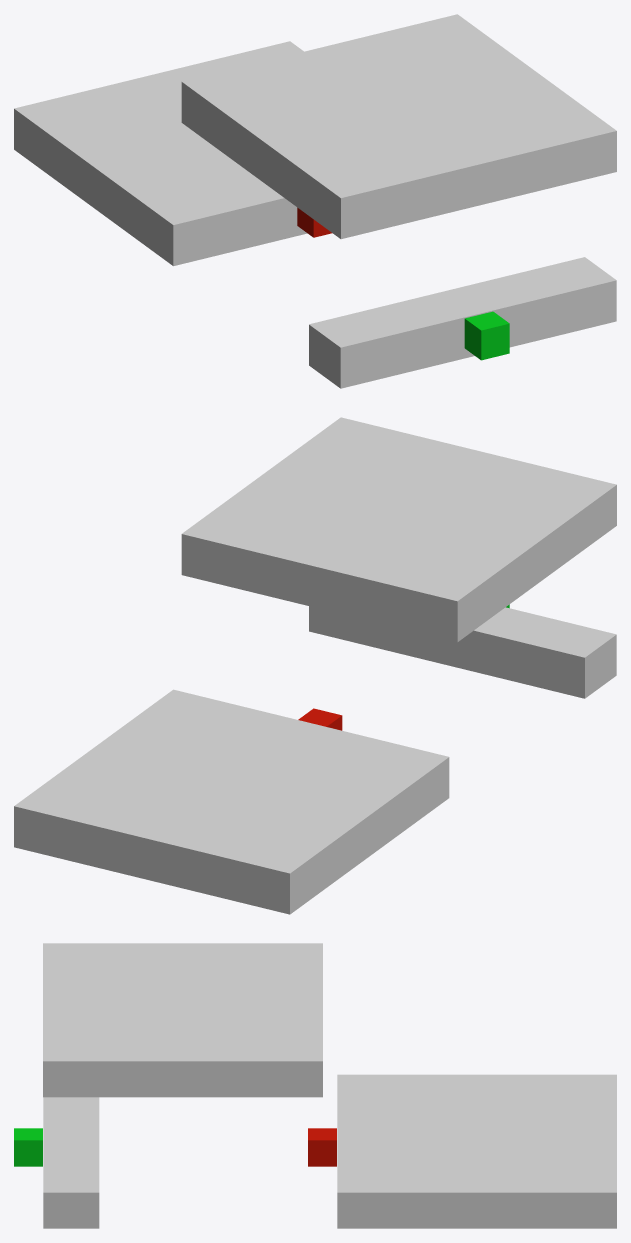
Rendered from platformModel.fbx.
The picture shows the model from 3 angles, top to bottom: view 1: azimuth 30°, elevation 25°; view 2: azimuth 150°, elevation 25°; view 3: azimuth 270°, elevation 25°; orthographic projection. The views are drawn at different scales.
Visible parts, largest first — view 1: Cube.001, Cube, Cube.003, Elevator; view 2: Cube, Cube.001, Cube.003; view 3: Cube, Cube.001, Cube.003, Platform, Elevator.
Part boxes in pixels (left/top/right/bottom): Cube.001: left=181, top=14, right=616, bottom=239; Cube: left=14, top=41, right=307, bottom=266; Cube.003: left=309, top=257, right=616, bottom=388; Elevator: left=464, top=311, right=509, bottom=360; Cube: left=14, top=689, right=449, bottom=914; Cube.001: left=181, top=417, right=616, bottom=642; Cube.003: left=309, top=606, right=616, bottom=698; Cube: left=337, top=1074, right=616, bottom=1228; Cube.001: left=43, top=943, right=322, bottom=1097; Cube.003: left=43, top=1097, right=99, bottom=1228; Platform: left=308, top=1128, right=336, bottom=1166; Elevator: left=14, top=1128, right=42, bottom=1166.
Size of the model in its own units: 193 by 127 by 416.
